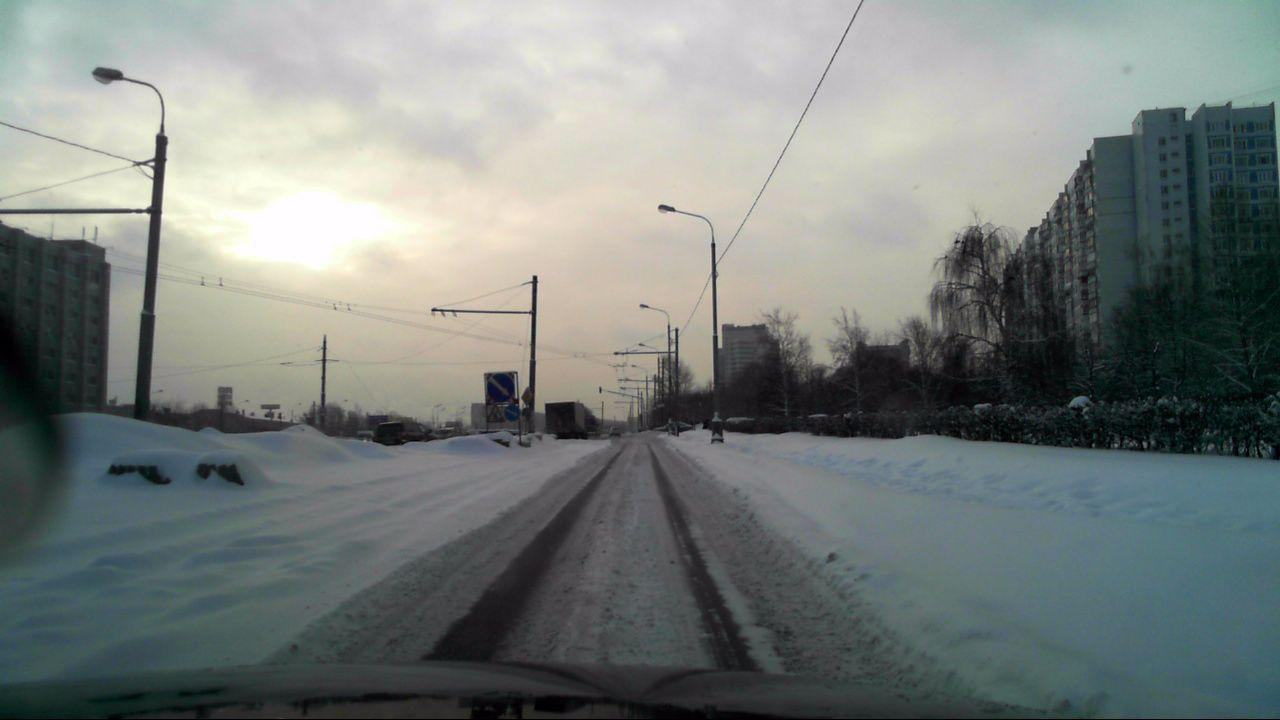road_sign: (486, 373, 515, 402)
